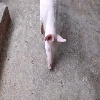heo: (35, 16, 66, 73)
